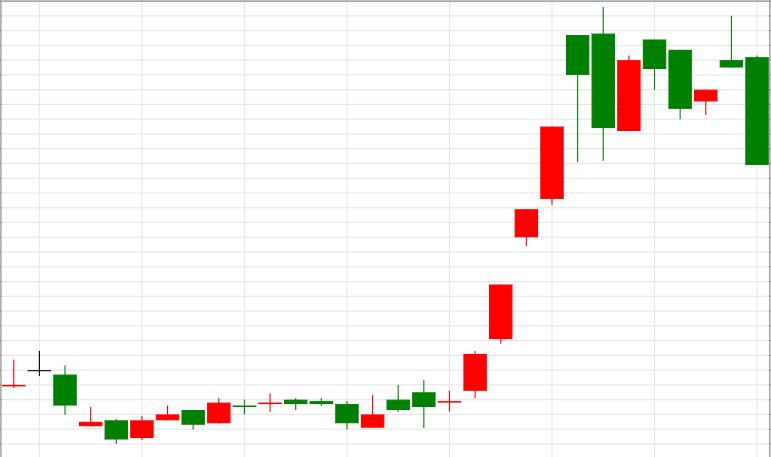hanging_man_fall: (438, 34, 589, 412)
